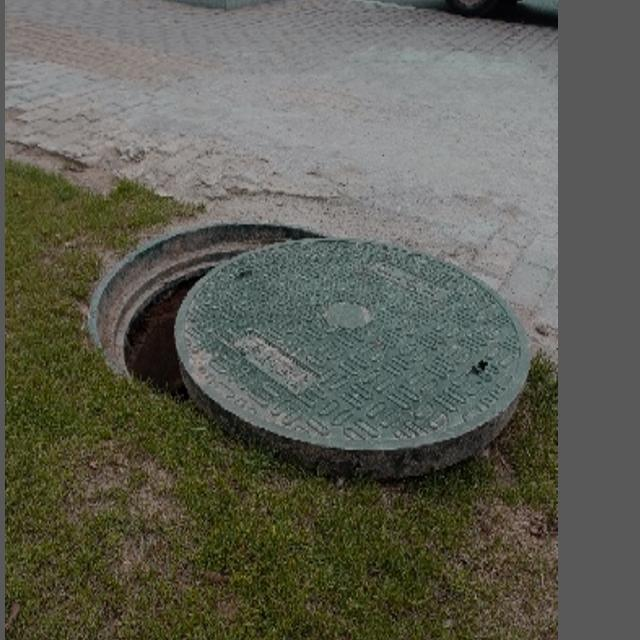uncovered: (83, 218, 527, 483)
